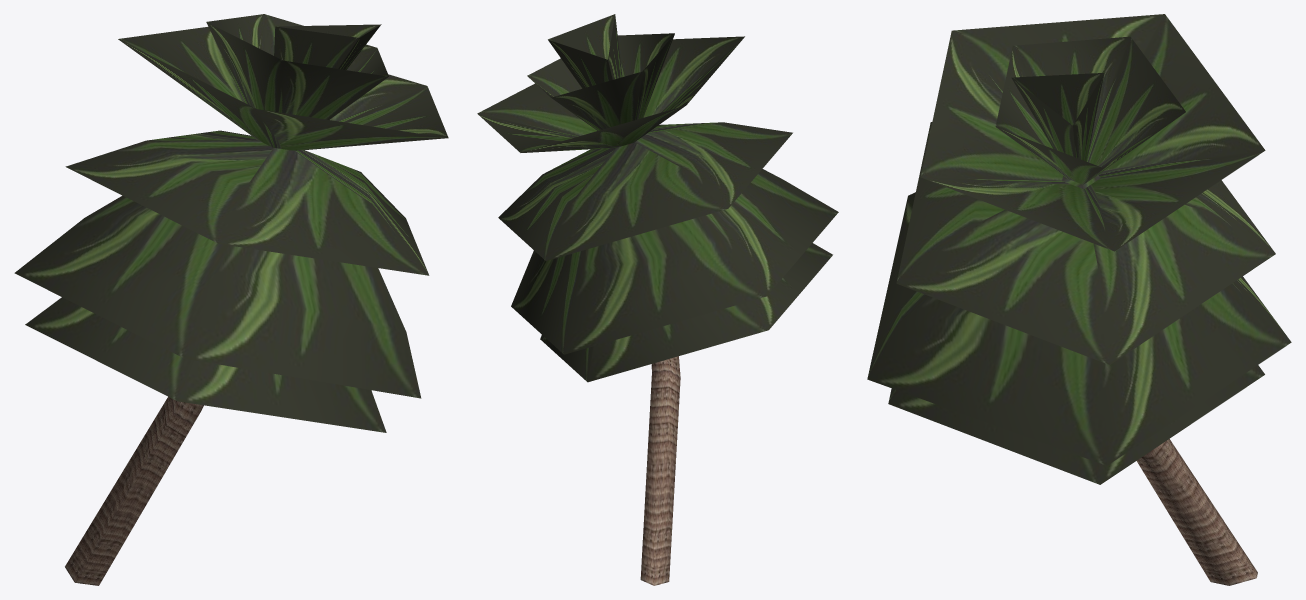
File: jungle_plant_d.fbx
3 views of the same model, side by side, from view 1: azimuth 30°, elevation 25°; view 2: azimuth 150°, elevation 25°; view 3: azimuth 270°, elevation 25° (orthographic). The views are drawn at different scales.
Parts seen in each view (by area): view 1: leaves_4, leaves_6, leaves_1, leaves_3, leaves_5, trunk, leaves_2; view 2: leaves_4, leaves_6, leaves_3, leaves_1, leaves_5, trunk, leaves_2; view 3: leaves_4, leaves_6, leaves_3, leaves_5, trunk, leaves_1, leaves_2.
Boxes of the visible parts, x1,y1,x2,y2 form: leaves_4: (14,195,421,398); leaves_6: (65,130,429,275); leaves_1: (25,297,386,432); leaves_3: (118,26,448,150); leaves_5: (206,14,388,119); trunk: (65,139,256,585); leaves_2: (274,24,381,69); leaves_4: (511,169,838,354); leaves_6: (498,122,792,260); leaves_3: (477,36,744,152); leaves_1: (540,243,832,382); leaves_5: (527,33,674,130); trunk: (628,144,680,585); leaves_2: (548,14,622,88); leaves_4: (867,192,1291,465); leaves_6: (896,122,1275,364); leaves_3: (920,14,1265,251); leaves_5: (995,36,1185,184); trunk: (1136,439,1257,585); leaves_1: (888,365,1264,484); leaves_2: (1011,73,1104,161).
Bounding box in the file's own units: 404 × 581 × 383.
2 materials, 2 textured.
